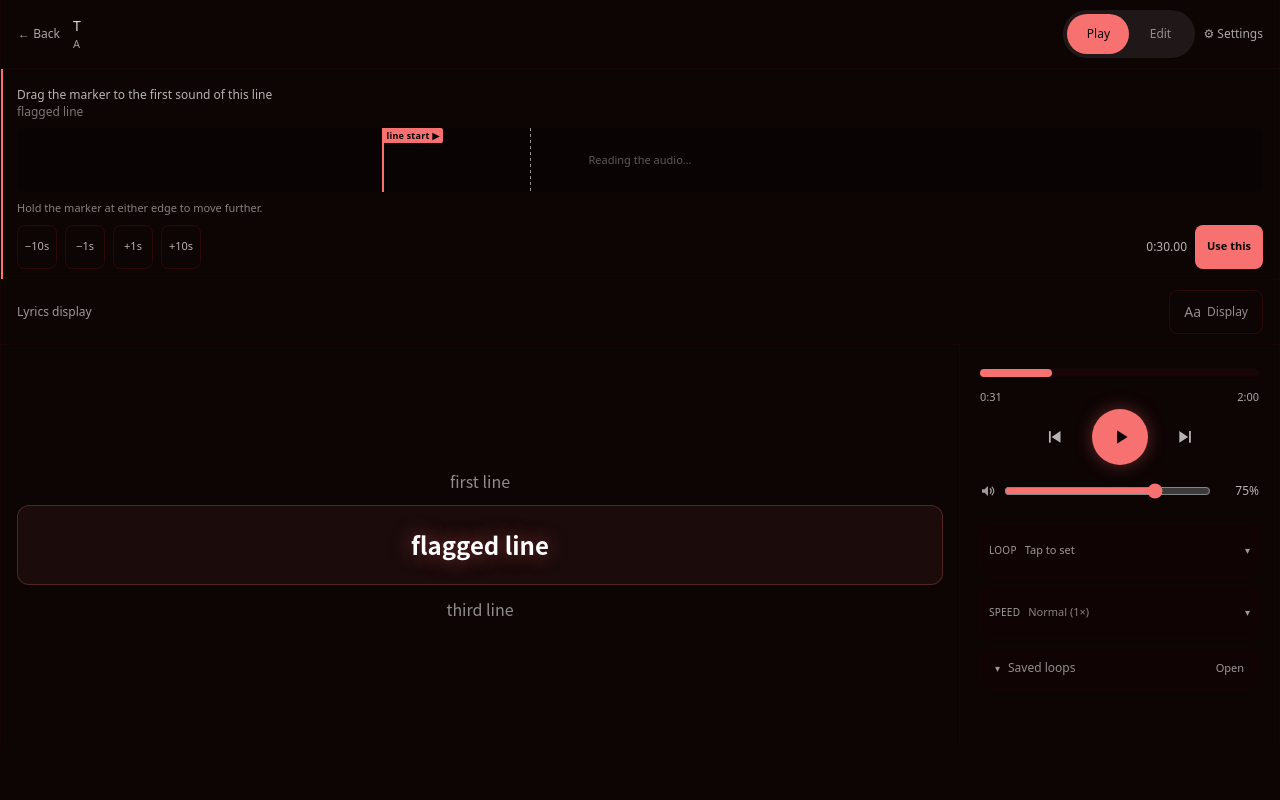
Test: snapping a committed time to a vocal onset › says so when it moved the time
Expected: the 2nd text "flagged line" is shown, top-left (411, 526), bottom-right (549, 562)
Set the slider named "start time" to "29.15": (640, 160) top-left (17, 128), bottom-right (1263, 192)
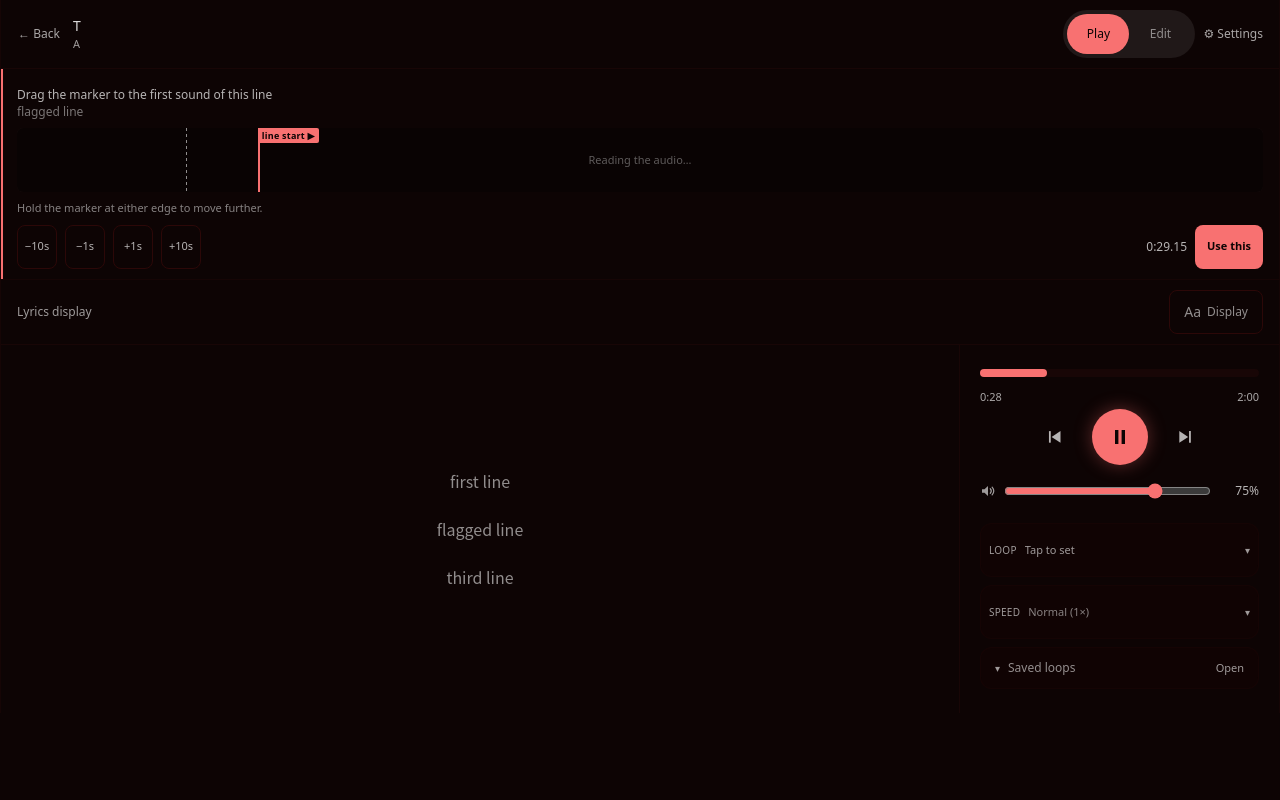
Click the button "Use this": (1229, 246) top-left (1195, 224), bottom-right (1263, 268)
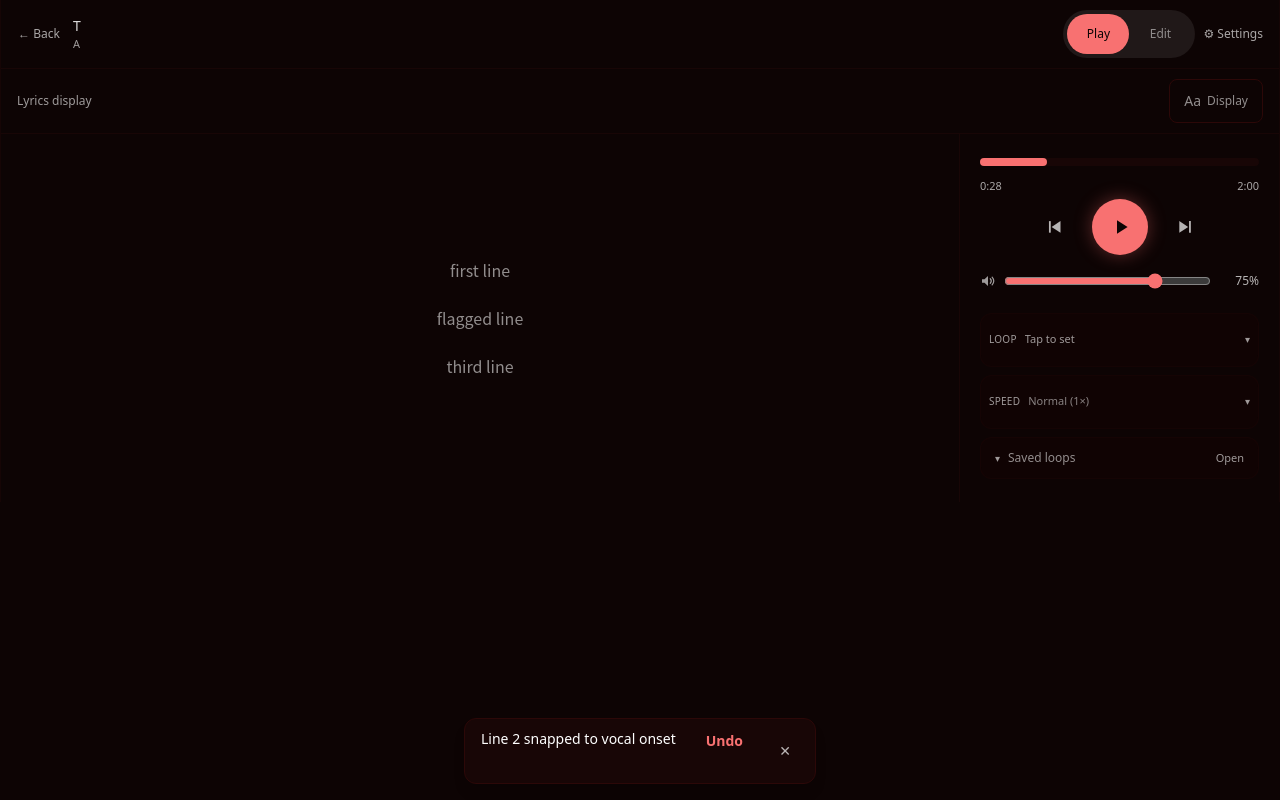
Expected: the text "Line 2 snapped to vocal onset" is shown, top-left (481, 729), bottom-right (686, 748)
